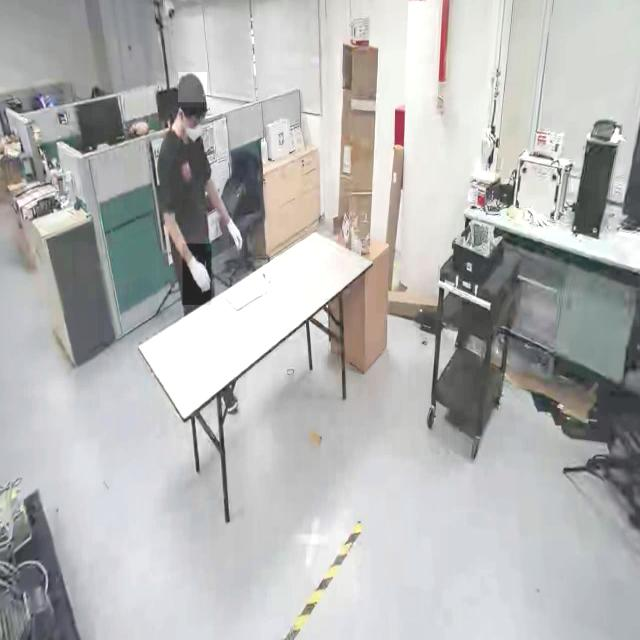face_mask: (181, 108, 209, 142)
hand_glove: (182, 243, 212, 306), (224, 218, 248, 258)
head_nohelmet: (177, 72, 207, 103)
person: (156, 72, 238, 316)
